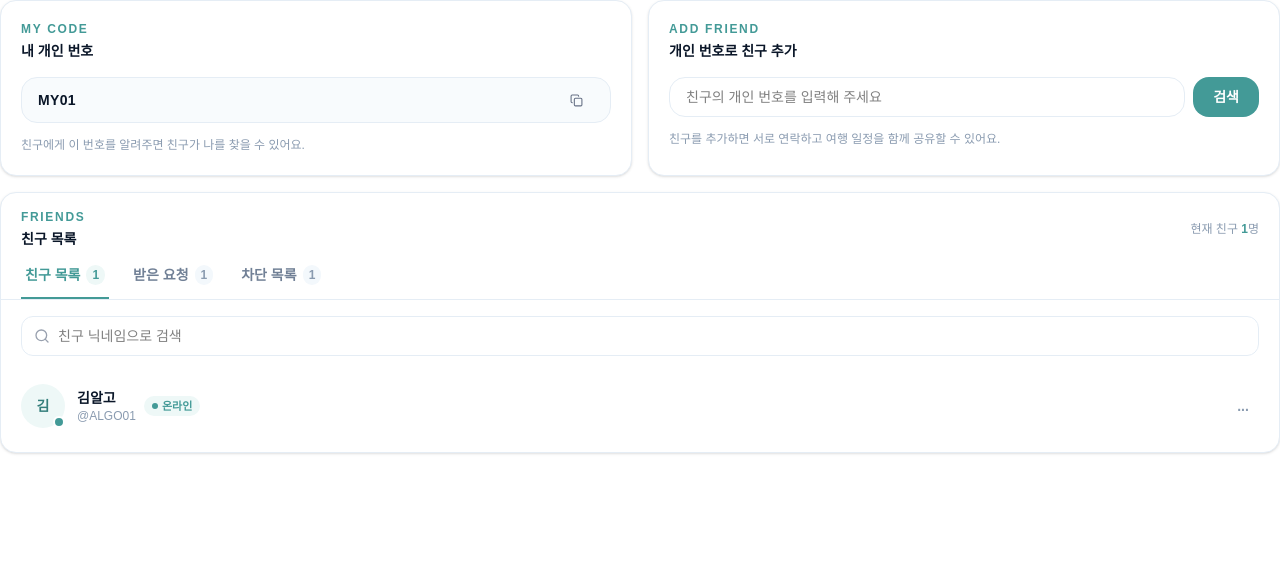
it: FriendManagement 컴포넌트 테스트 › 친구 요청을 수락하면 재조회 없이 친구 목록으로 이동한다
expect the text "김알고" is shown: met, box [77,390,116,406]
Click the button "받은 요청 1". click: (173, 282)
box: [129,265,217,299]
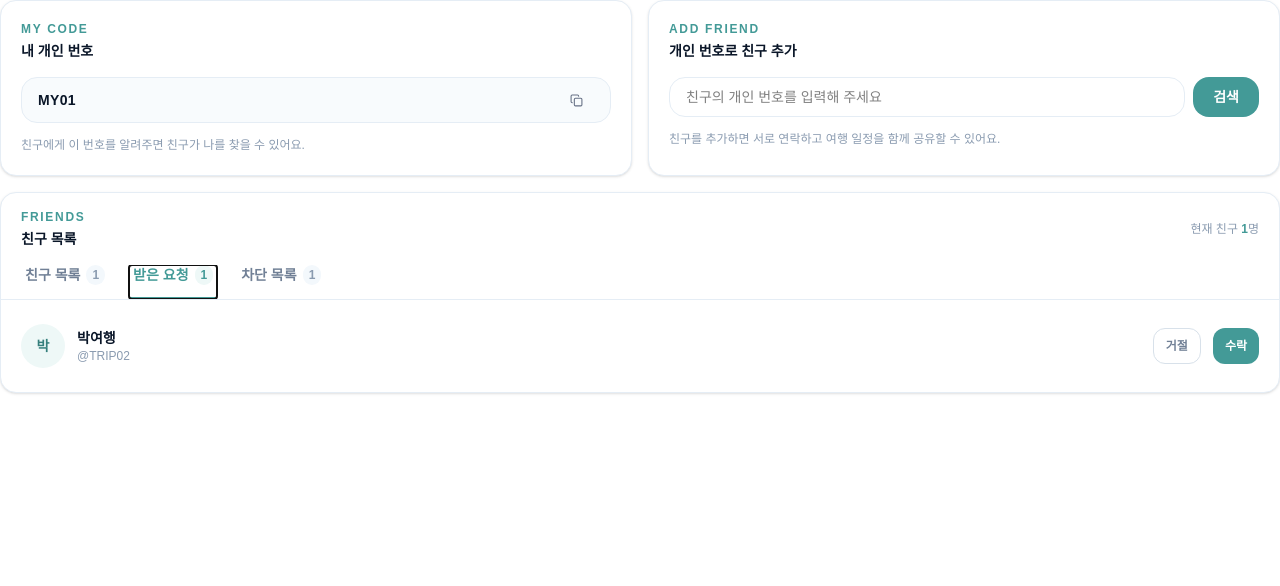
expect the text "박여행" is shown: met, box [77,330,116,346]
Click the button "수락". click: (1236, 346)
box: [1213,328,1259,364]
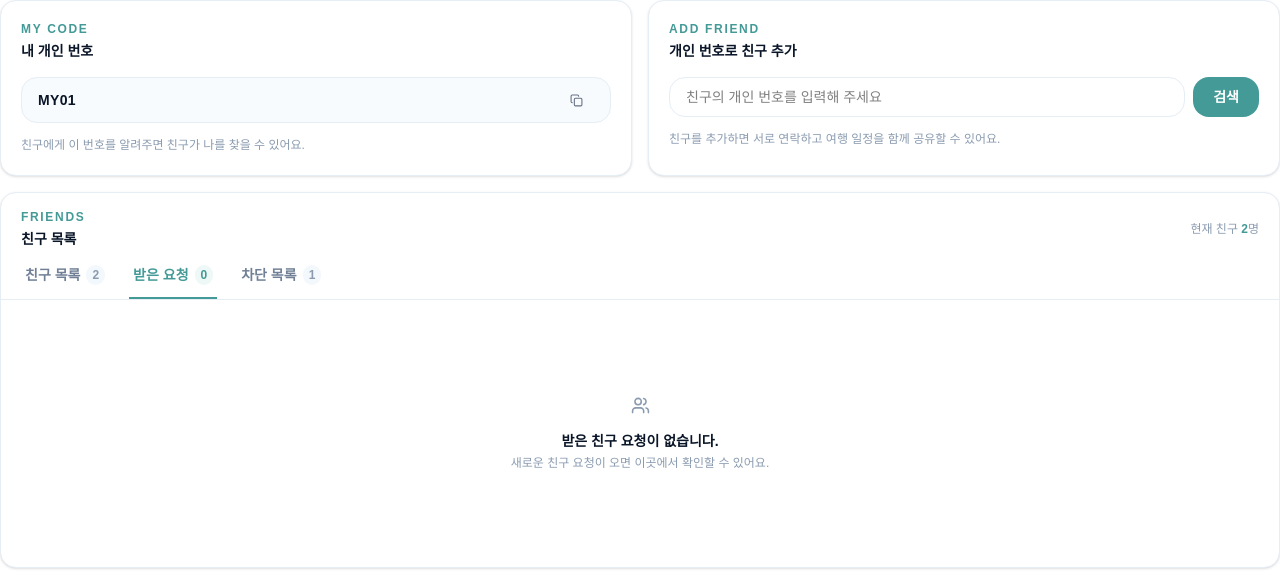
expect the text "박여행" is gone: met
Click the button "친구 목록 2". click: (65, 282)
box: [21,265,109,299]
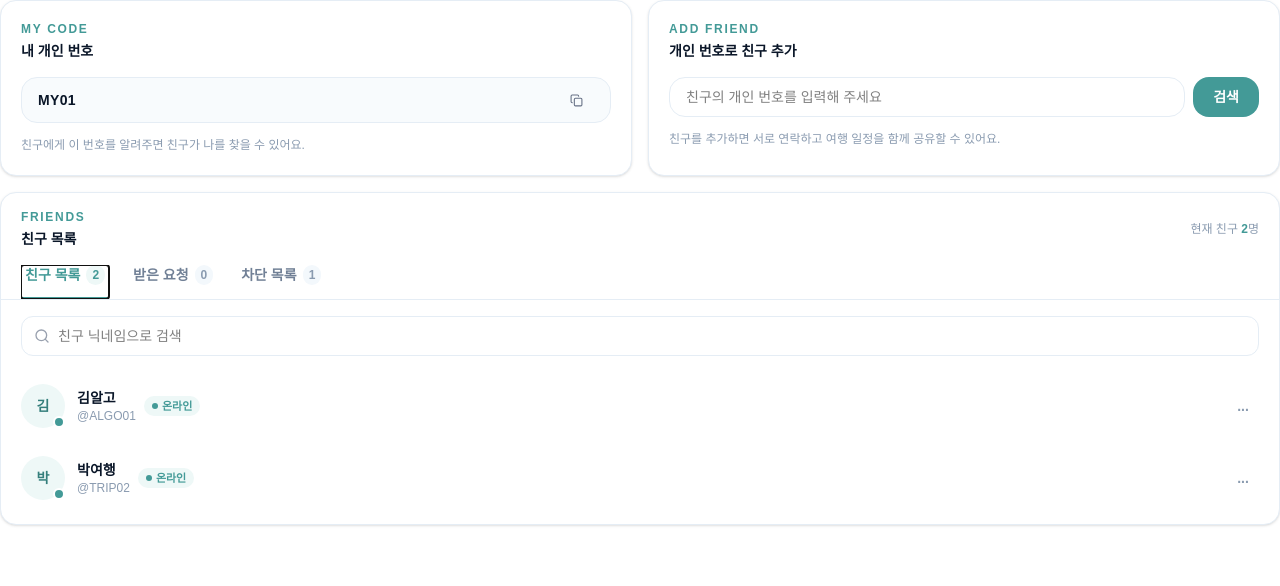
expect the text "박여행" is shown: met, box [77,462,116,478]
